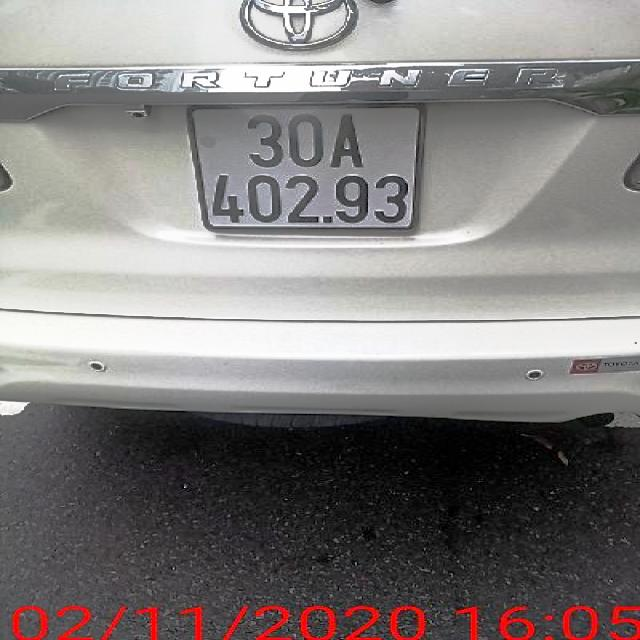license_plate: (193, 109, 430, 228)
